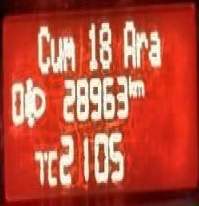0: (92, 129, 109, 183), (9, 80, 24, 126)
1: (86, 17, 98, 71), (81, 133, 90, 183)
2: (58, 131, 73, 184), (61, 74, 74, 122)
3: (114, 71, 127, 119)
5: (109, 129, 124, 183)
6: (101, 73, 114, 119)
7: (31, 147, 43, 184)
8: (97, 19, 112, 70), (75, 76, 88, 120)
9: (89, 74, 102, 119)
X: (120, 15, 135, 69), (35, 21, 49, 74), (147, 28, 161, 67), (61, 33, 75, 71), (49, 33, 62, 72), (135, 26, 147, 67), (47, 149, 57, 184), (134, 76, 144, 95), (127, 72, 133, 97), (43, 149, 46, 161)
